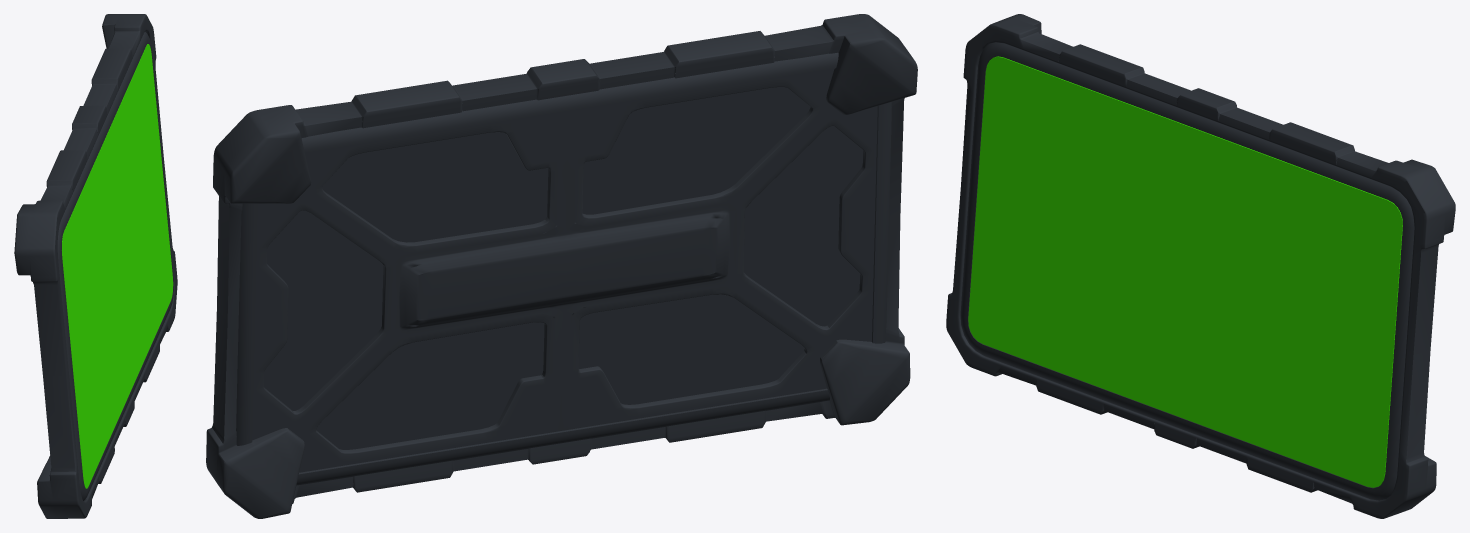
The model's file is mobile-v2.glb.
3 views of the same model, side by side, from view 1: azimuth 30°, elevation 25°; view 2: azimuth 150°, elevation 25°; view 3: azimuth 270°, elevation 25° (orthographic). The views are drawn at different scales.
Visible parts, largest first — view 1: phone_screen, phone.001; view 2: phone.001; view 3: phone_screen, phone.001.
Boxes of the visible parts, left/top/right/bottom form: phone_screen: left=62, top=44, right=173, bottom=488; phone.001: left=14, top=14, right=177, bottom=518; phone.001: left=206, top=14, right=917, bottom=518; phone_screen: left=968, top=56, right=1402, bottom=487; phone.001: left=946, top=14, right=1455, bottom=518.
Bounding box in the file's own units: 0.7312 × 0.6185 × 0.8369.
